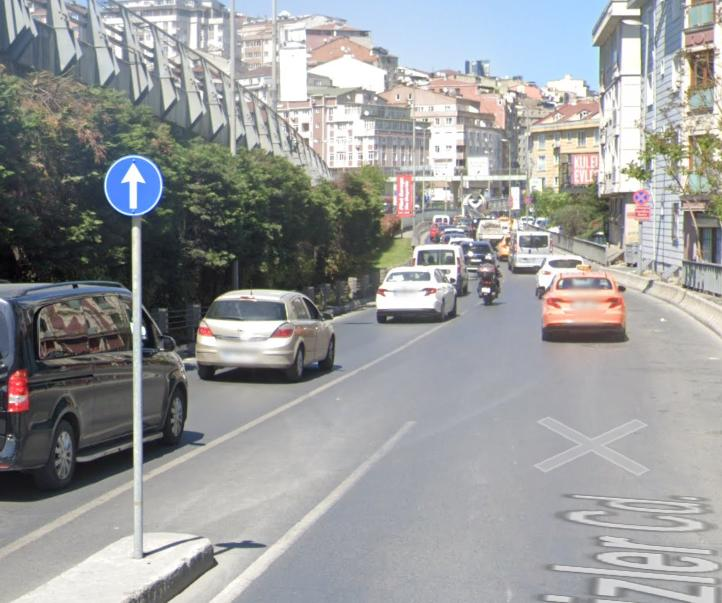forward: (107, 158, 161, 212)
